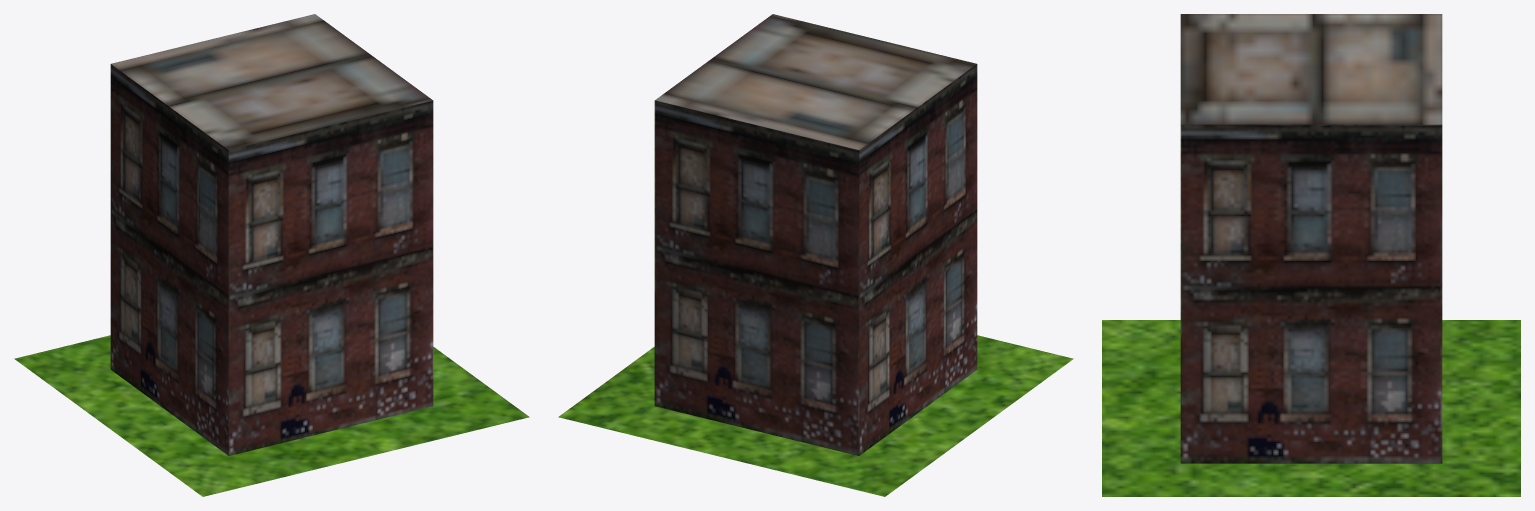
File: house.obj
The picture shows the model from 3 angles, left to right: view 1: azimuth 30°, elevation 25°; view 2: azimuth 150°, elevation 25°; view 3: azimuth 270°, elevation 25°; orthographic projection. The views are drawn at different scales.
Visible parts, largest first — view 1: plane; view 2: plane; view 3: plane.
Part boxes in pixels (x1=…): plane: x1=14, y1=14, x2=529, y2=496; plane: x1=558, y1=14, x2=1073, y2=496; plane: x1=1102, y1=14, x2=1520, y2=496.
Size of the model in its own units: 1 by 0.8936 by 1.
2 materials, 2 textured.
